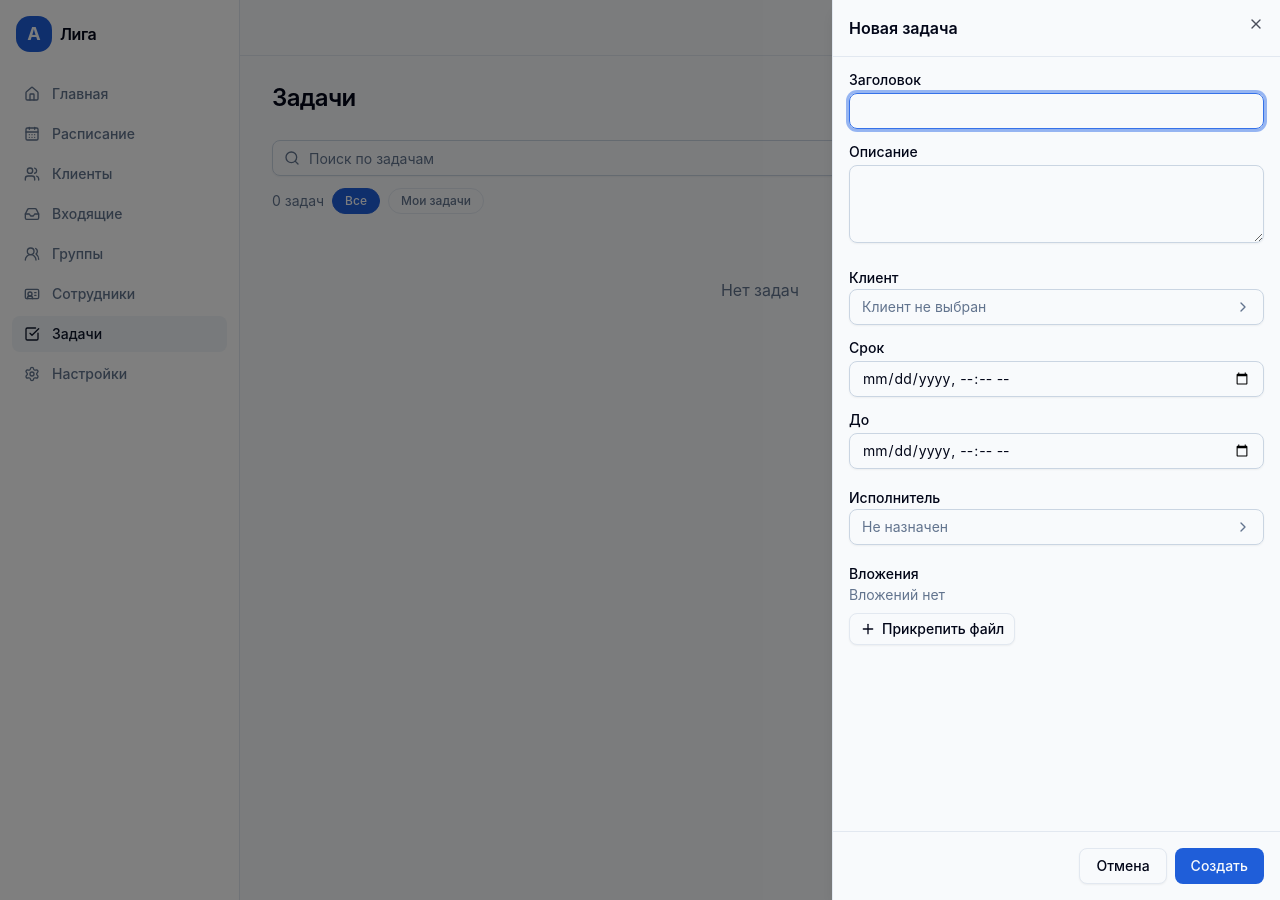
Scenario: создание задачи › создаёт задачу с клиентом и исполнителем и закрывает панель
Type "Новая задача" into the field labelled "Заголовок" at (1056,111), box [849,93,1264,129]
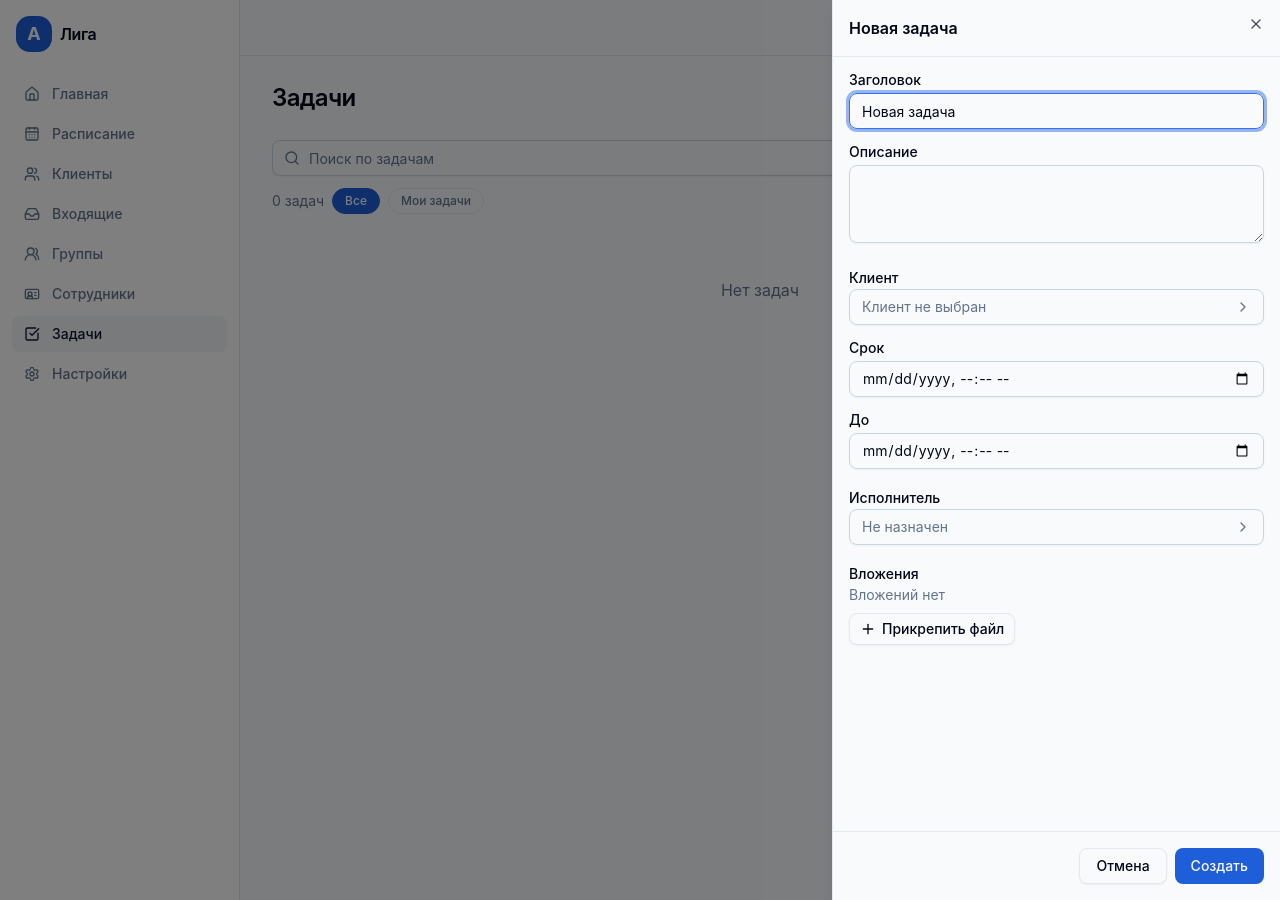
Click the button "Клиент не выбран" at (924,306), box [849,289,1264,325]
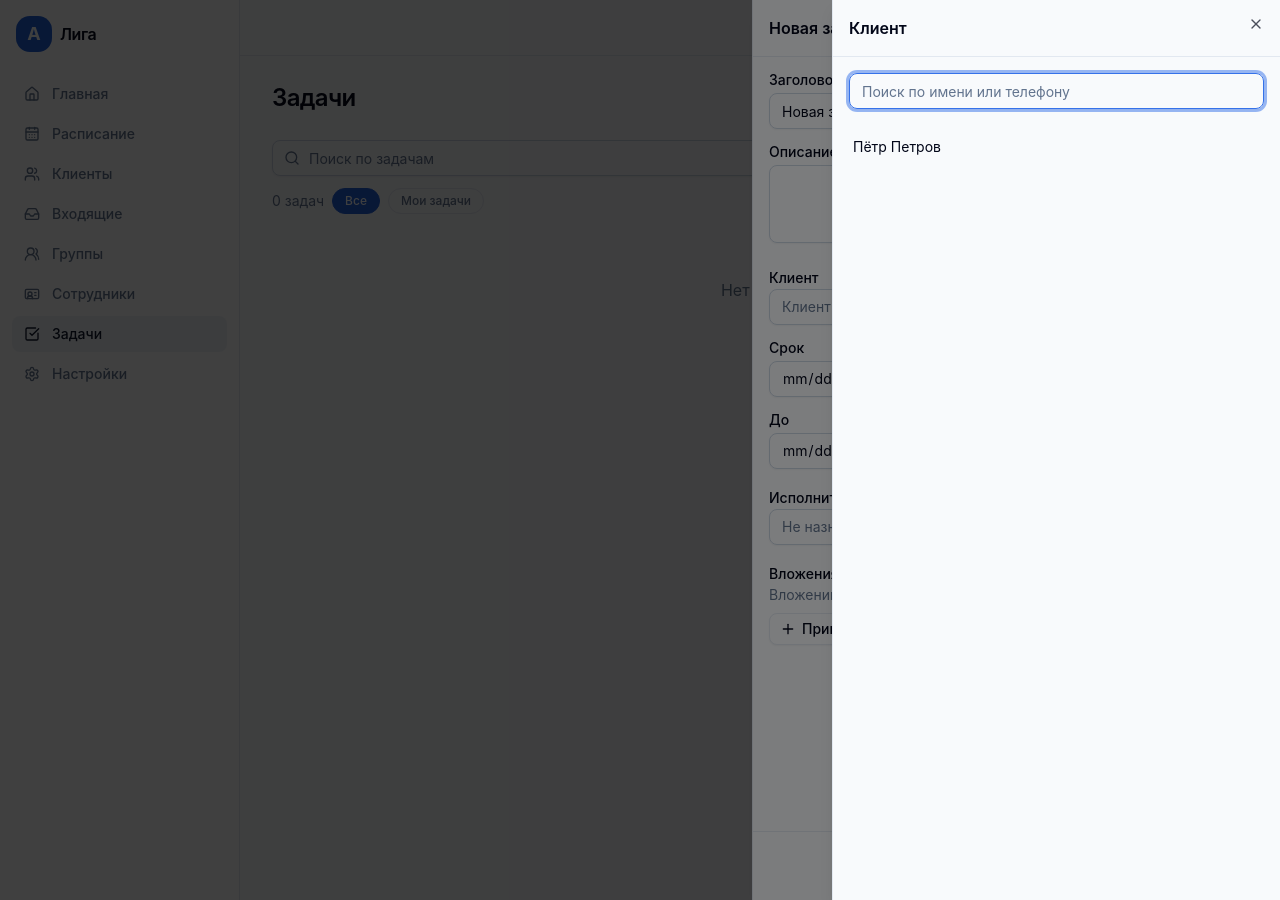
Click the button "Пётр Петров" at (897,146), box [849,125,1264,169]
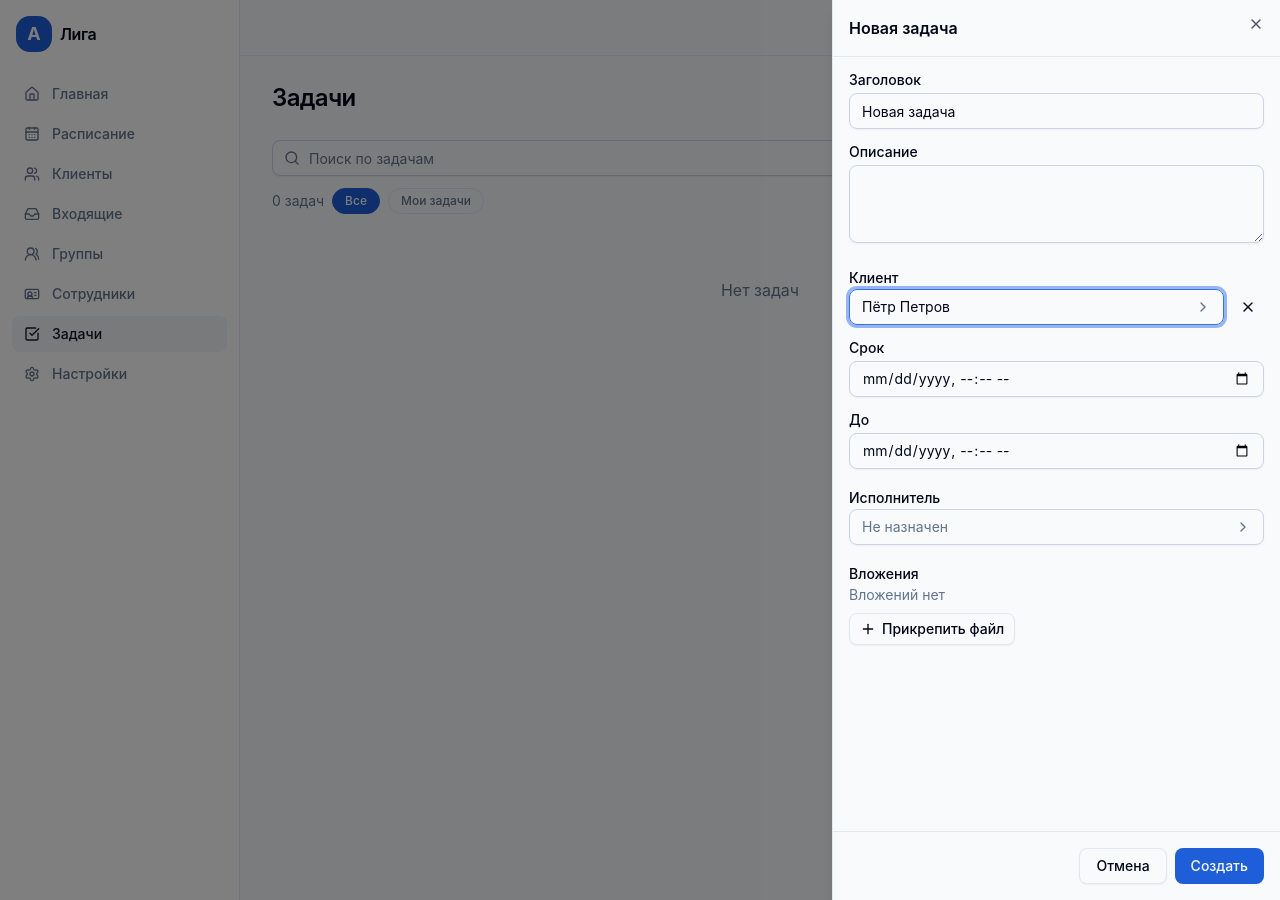
Click the button named "Исполнитель" at (905,526), box [849,509,1264,545]
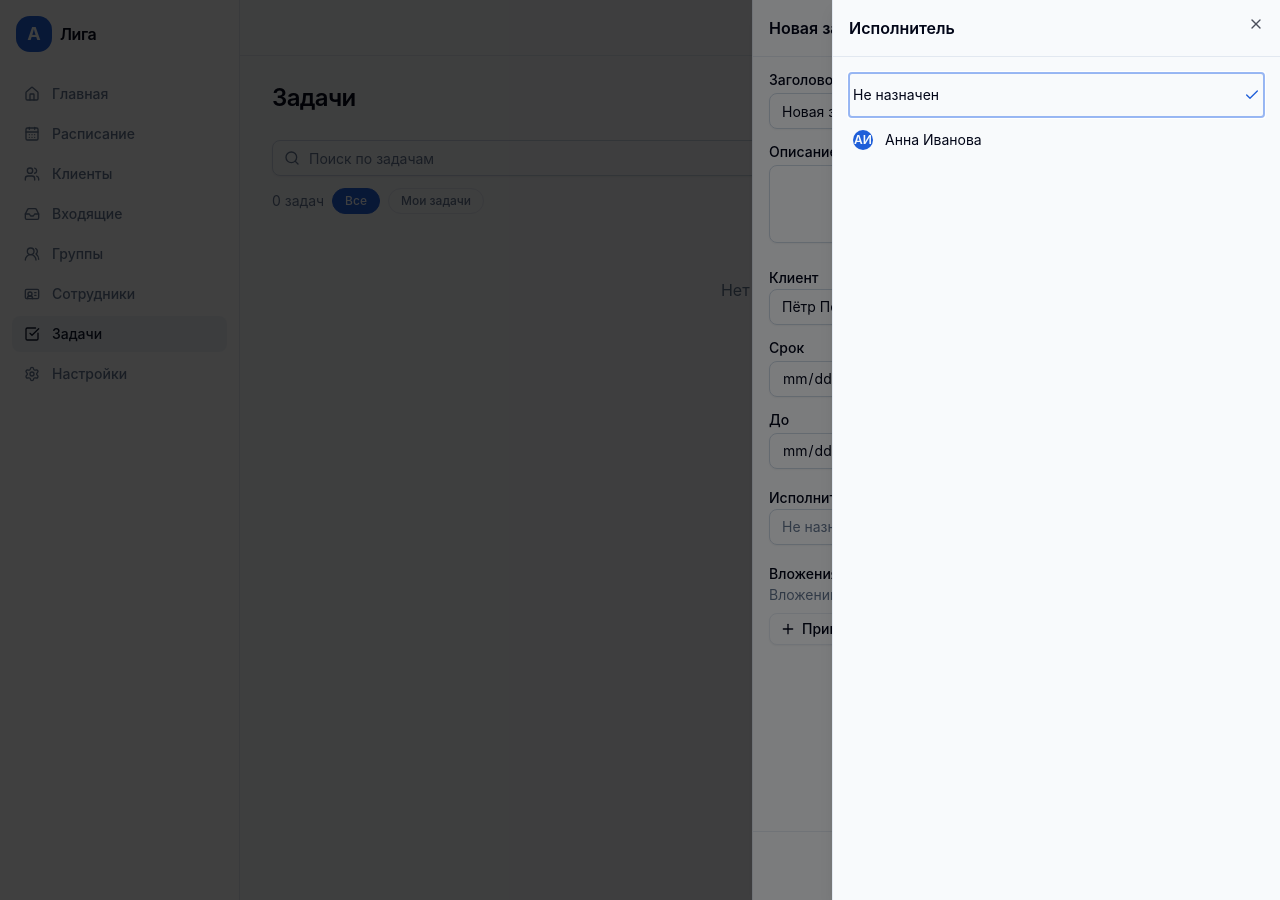
Click the button "АИ Анна Иванова" at (933,140), box [849,118,1264,162]
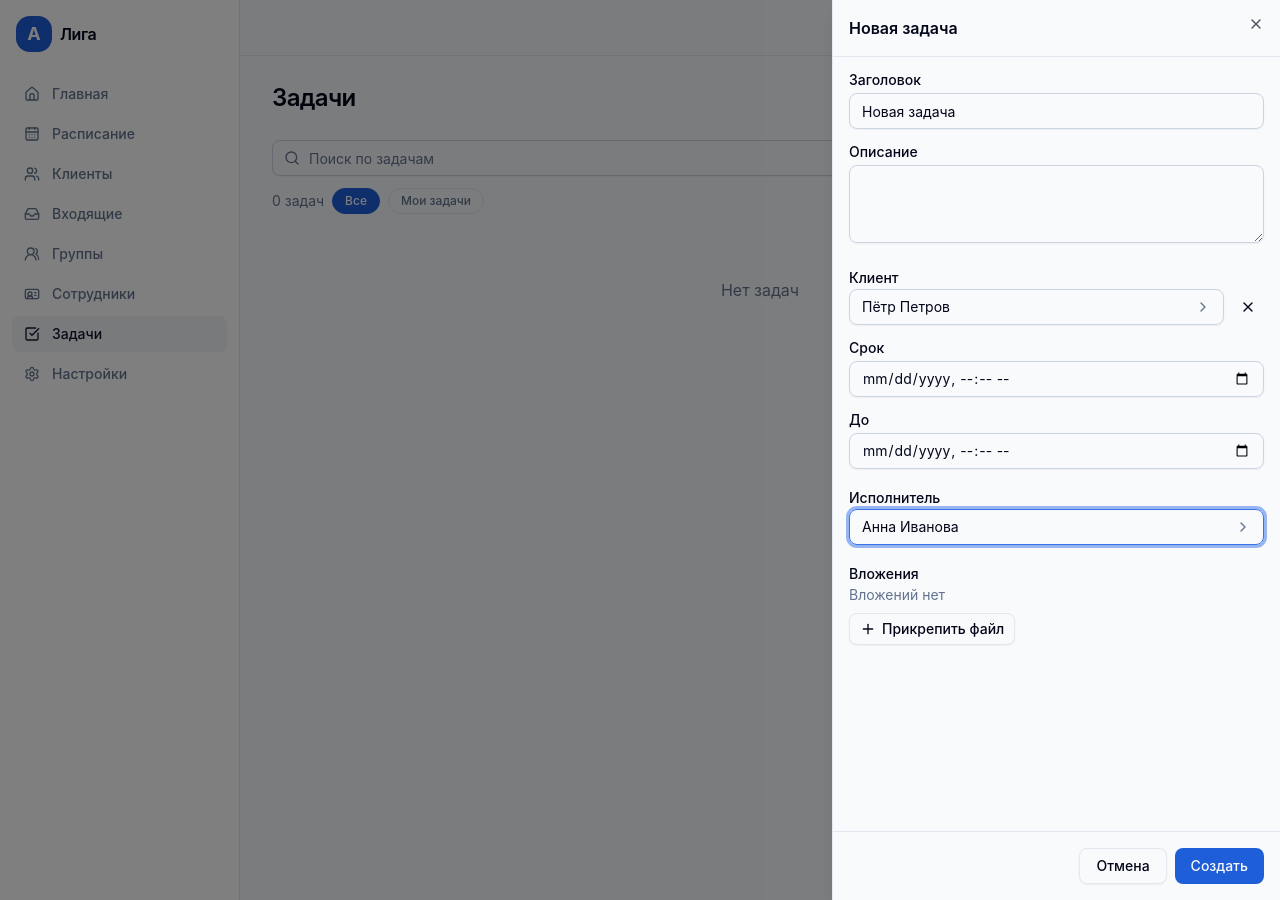
Click the button "Создать" at (1219,866), box [1175,848,1264,884]
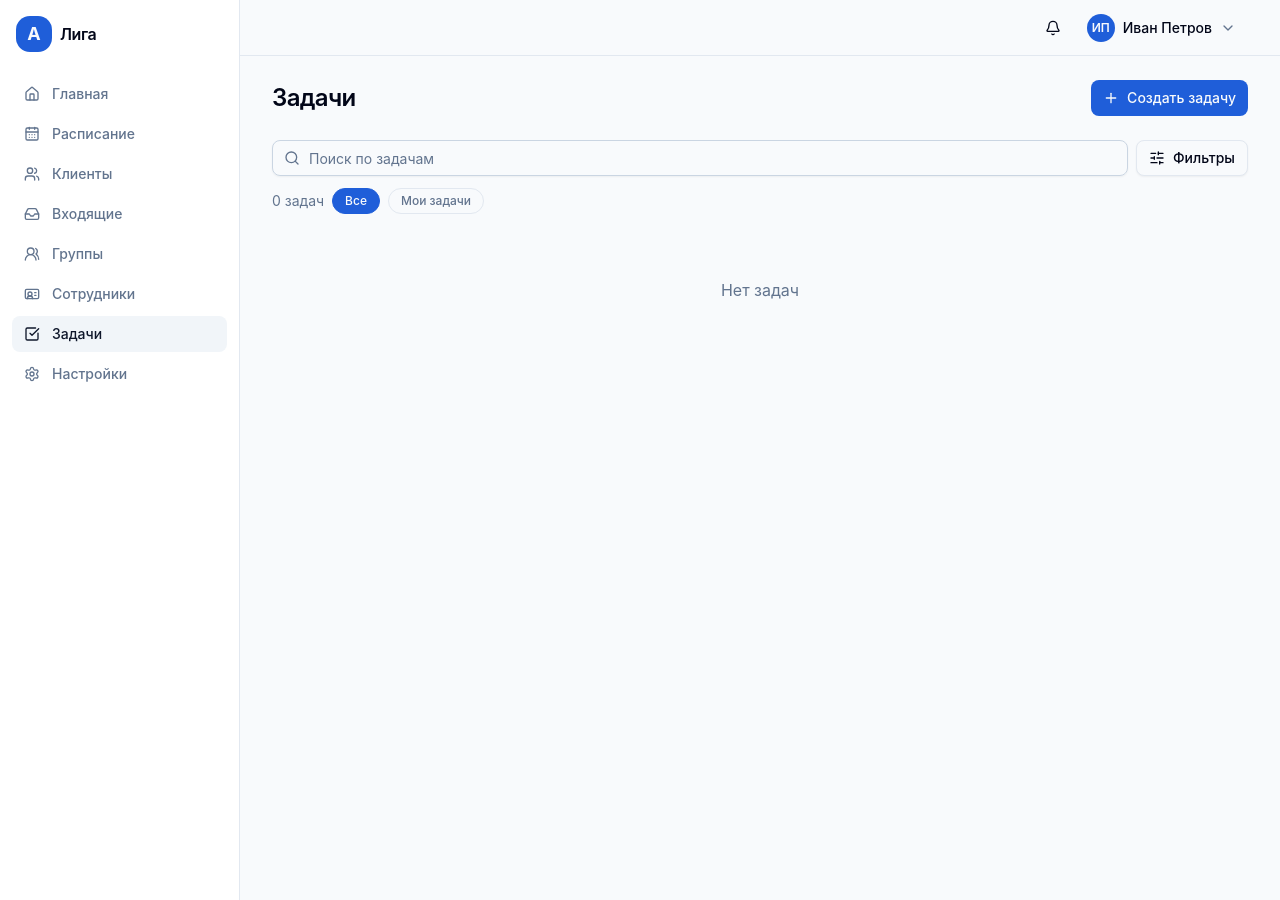
Expected: the dialog is gone
